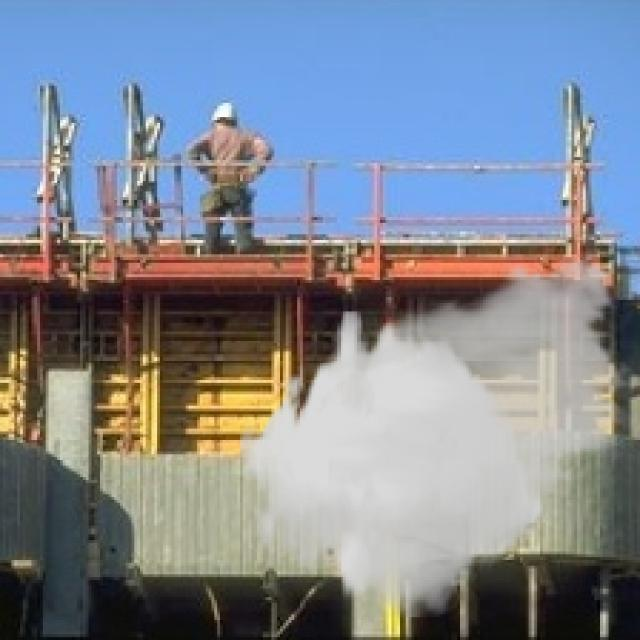smoke: (237, 240, 637, 617)
